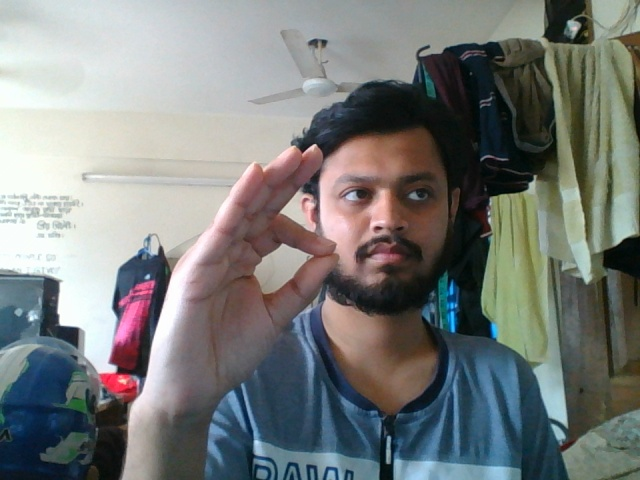ieo: (142, 136, 341, 431)
